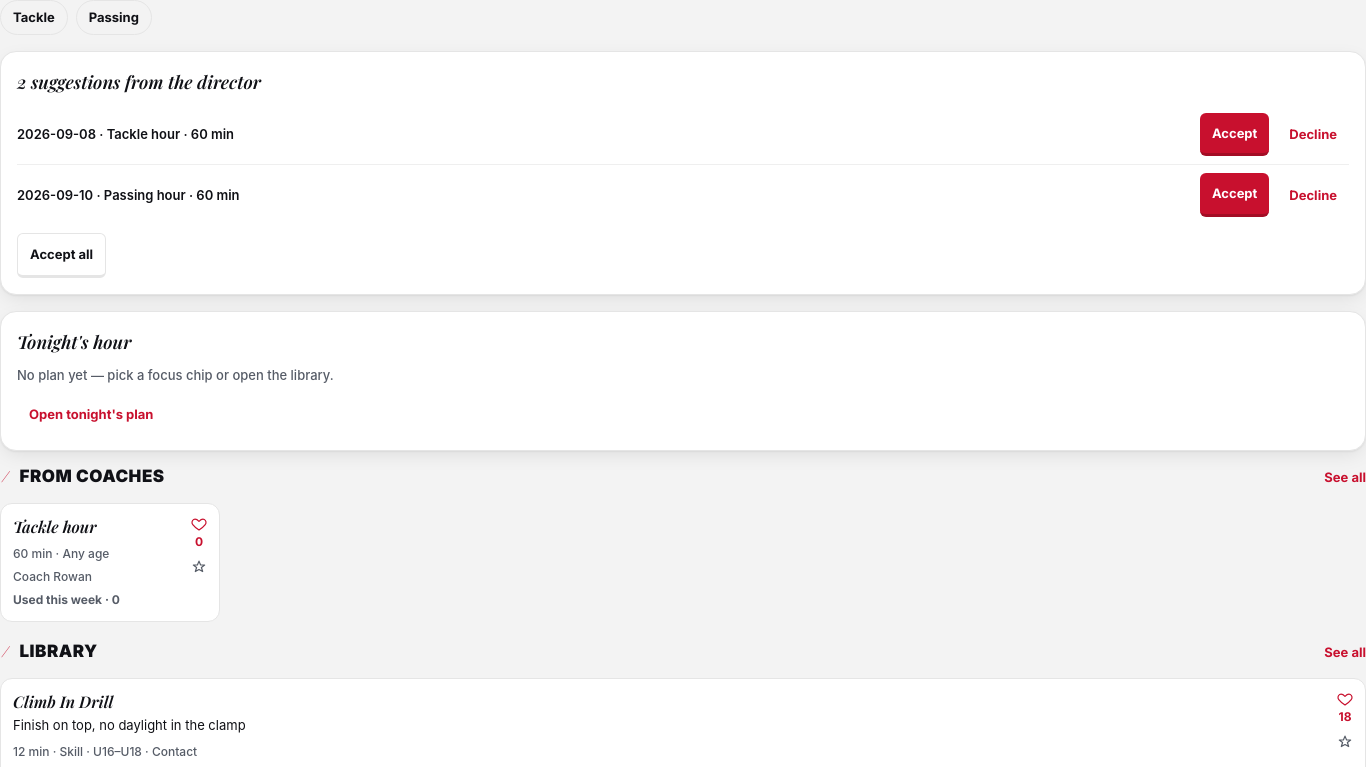
Test: the director's suggestions on the shelf › declines one on its own row
Step 1. Click the button "Decline" in the row of "2026-09-08 ·" → (1313, 134), box [1277,113,1349,156]
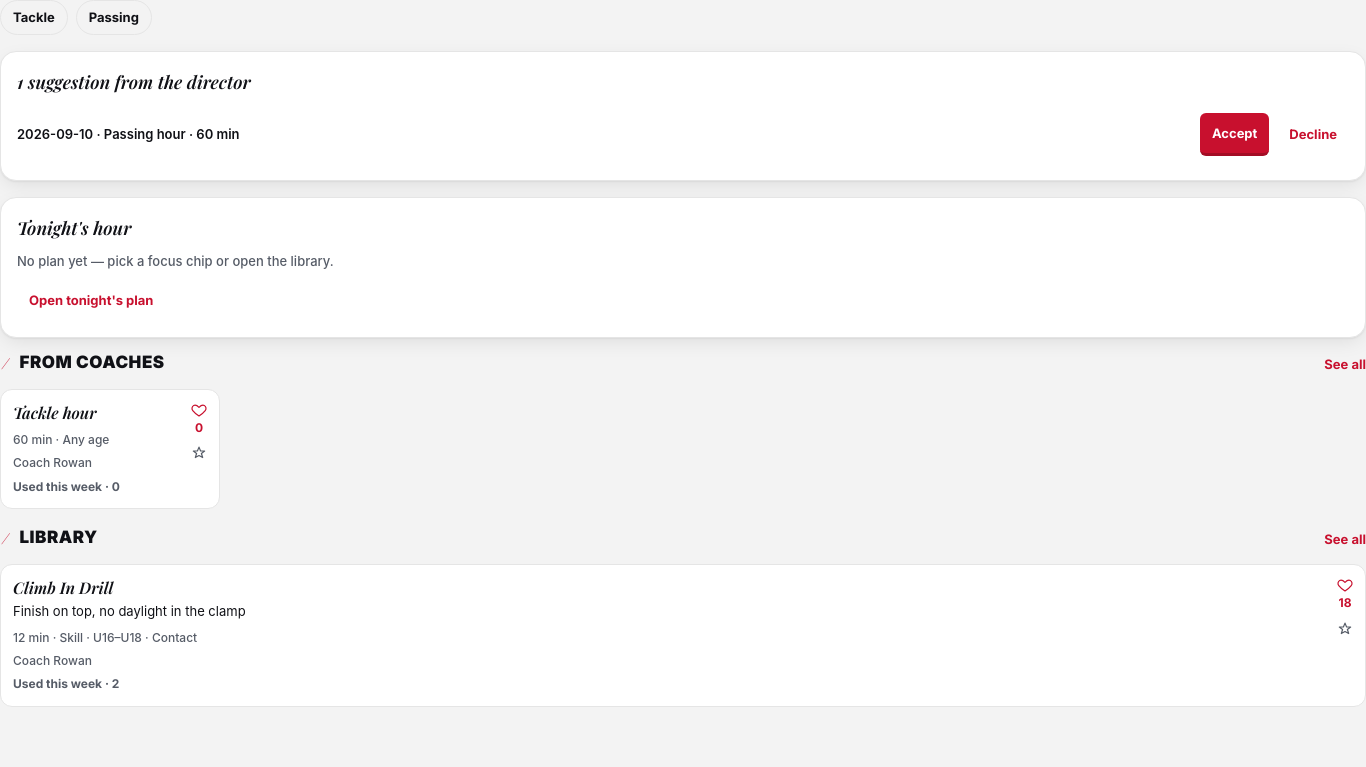
Check: the element with test id "director-suggestions" shows "1 suggestion from the director", box [17,70,251,94]
